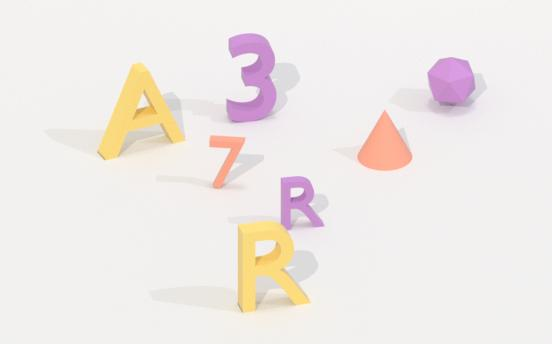3: (225, 34, 284, 124)
7: (205, 133, 250, 190)
A-hoa: (88, 65, 200, 164)
R-hoa: (234, 226, 314, 321), (275, 173, 331, 234)
dagiac: (425, 56, 481, 106)
non: (353, 107, 419, 174)
